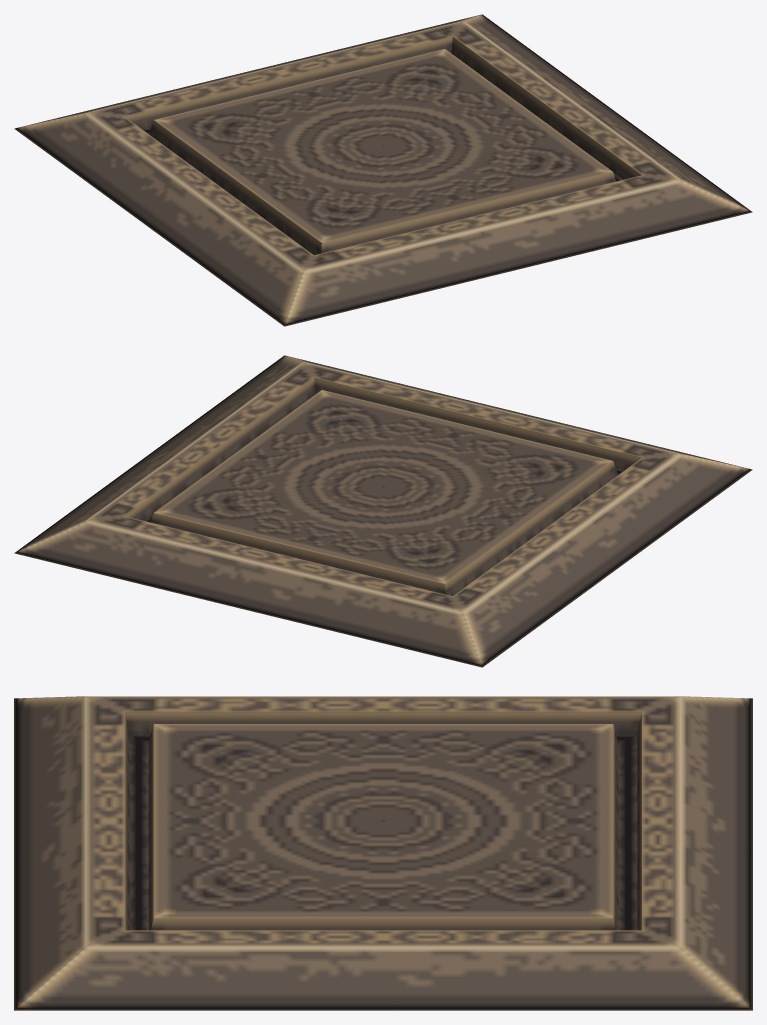
File: Steinplatte.fbx
3 views of the same model, one above another, from view 1: azimuth 30°, elevation 25°; view 2: azimuth 150°, elevation 25°; view 3: azimuth 270°, elevation 25° (orthographic). The views are drawn at different scales.
Parts seen in each view (by area): view 1: Steinplatte; view 2: Steinplatte; view 3: Steinplatte.
Part boxes in pixels (<box>): Steinplatte: <box>14,14,752,326</box>; Steinplatte: <box>14,355,752,667</box>; Steinplatte: <box>14,696,752,1010</box>.
Bounding box in the file's own units: 2 × 0.1 × 2.
